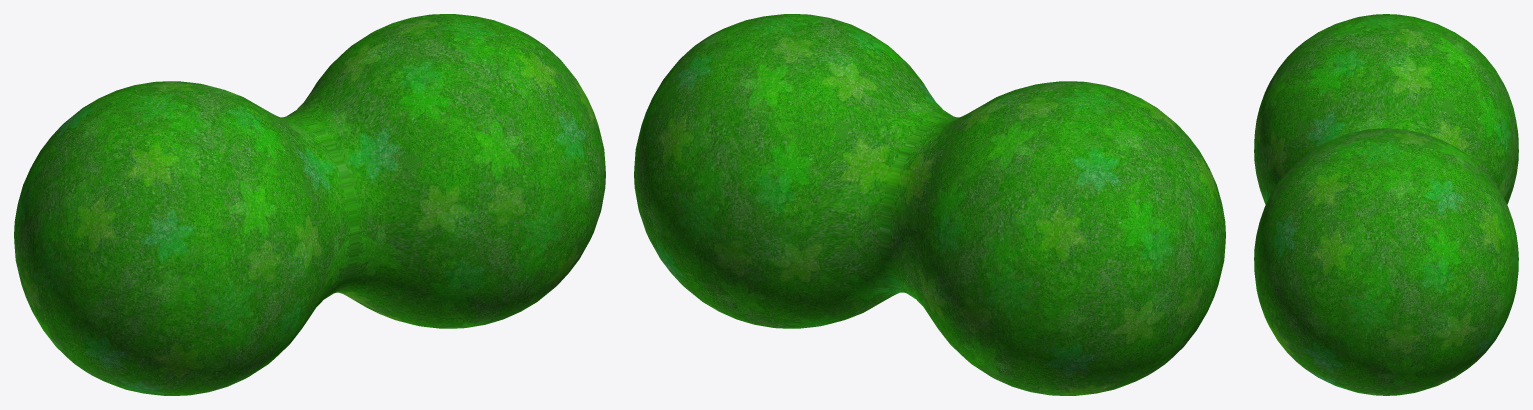
The model's file is HikeGardenPeanutPlanet.fbx.
3 renders of one model, left to right at view 1: azimuth 30°, elevation 25°; view 2: azimuth 150°, elevation 25°; view 3: azimuth 270°, elevation 25°, orthographic. The views are drawn at different scales.
Parts seen in each view (by area): view 1: mesh-0.001; view 2: mesh-0.001; view 3: mesh-0.001.
Part boxes in pixels (x1,y1,x2,y2): mesh-0.001: (14,14,605,395); mesh-0.001: (634,14,1225,395); mesh-0.001: (1254,14,1518,395).
Bounding box in the file's own units: 182781 × 90311 × 90425.
